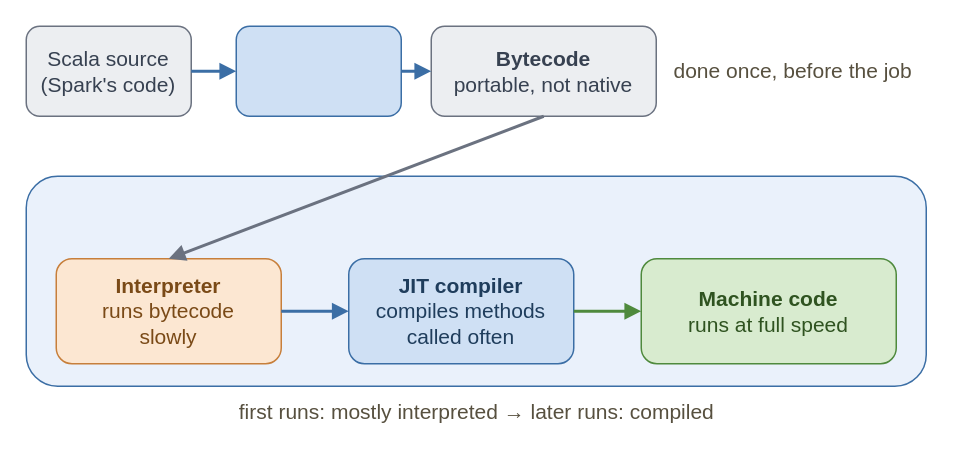
Image size: 953x455. Some labels were removed from this diagram. Each missing label, with the box of its shape:
Compiler (build time): (235, 25, 401, 116)
The JVM, at run time (every executor): (25, 175, 926, 386)
